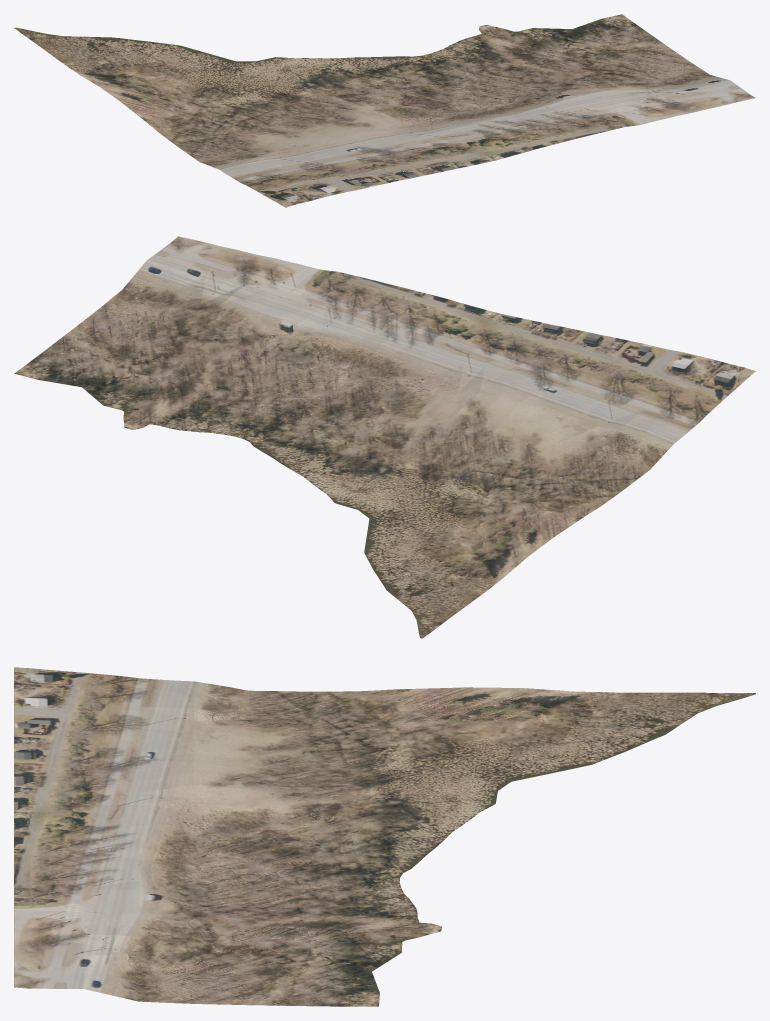
File: CM_Terrain_24490049_6818975.fbx
The picture shows the model from 3 angles, top to bottom: view 1: azimuth 30°, elevation 25°; view 2: azimuth 150°, elevation 25°; view 3: azimuth 270°, elevation 25°; orthographic projection. The views are drawn at different scales.
Parts seen in each view (by area): view 1: CM_Terrain_24490049_6818975_LOD0; view 2: CM_Terrain_24490049_6818975_LOD0; view 3: CM_Terrain_24490049_6818975_LOD0.
Part boxes in pixels (x1,y1,x2,y2): CM_Terrain_24490049_6818975_LOD0: (14,14,755,207); CM_Terrain_24490049_6818975_LOD0: (14,236,755,638); CM_Terrain_24490049_6818975_LOD0: (14,667,755,1006).
Size of what is drawn, in the model's own units: 205 by 8.44 by 205.
